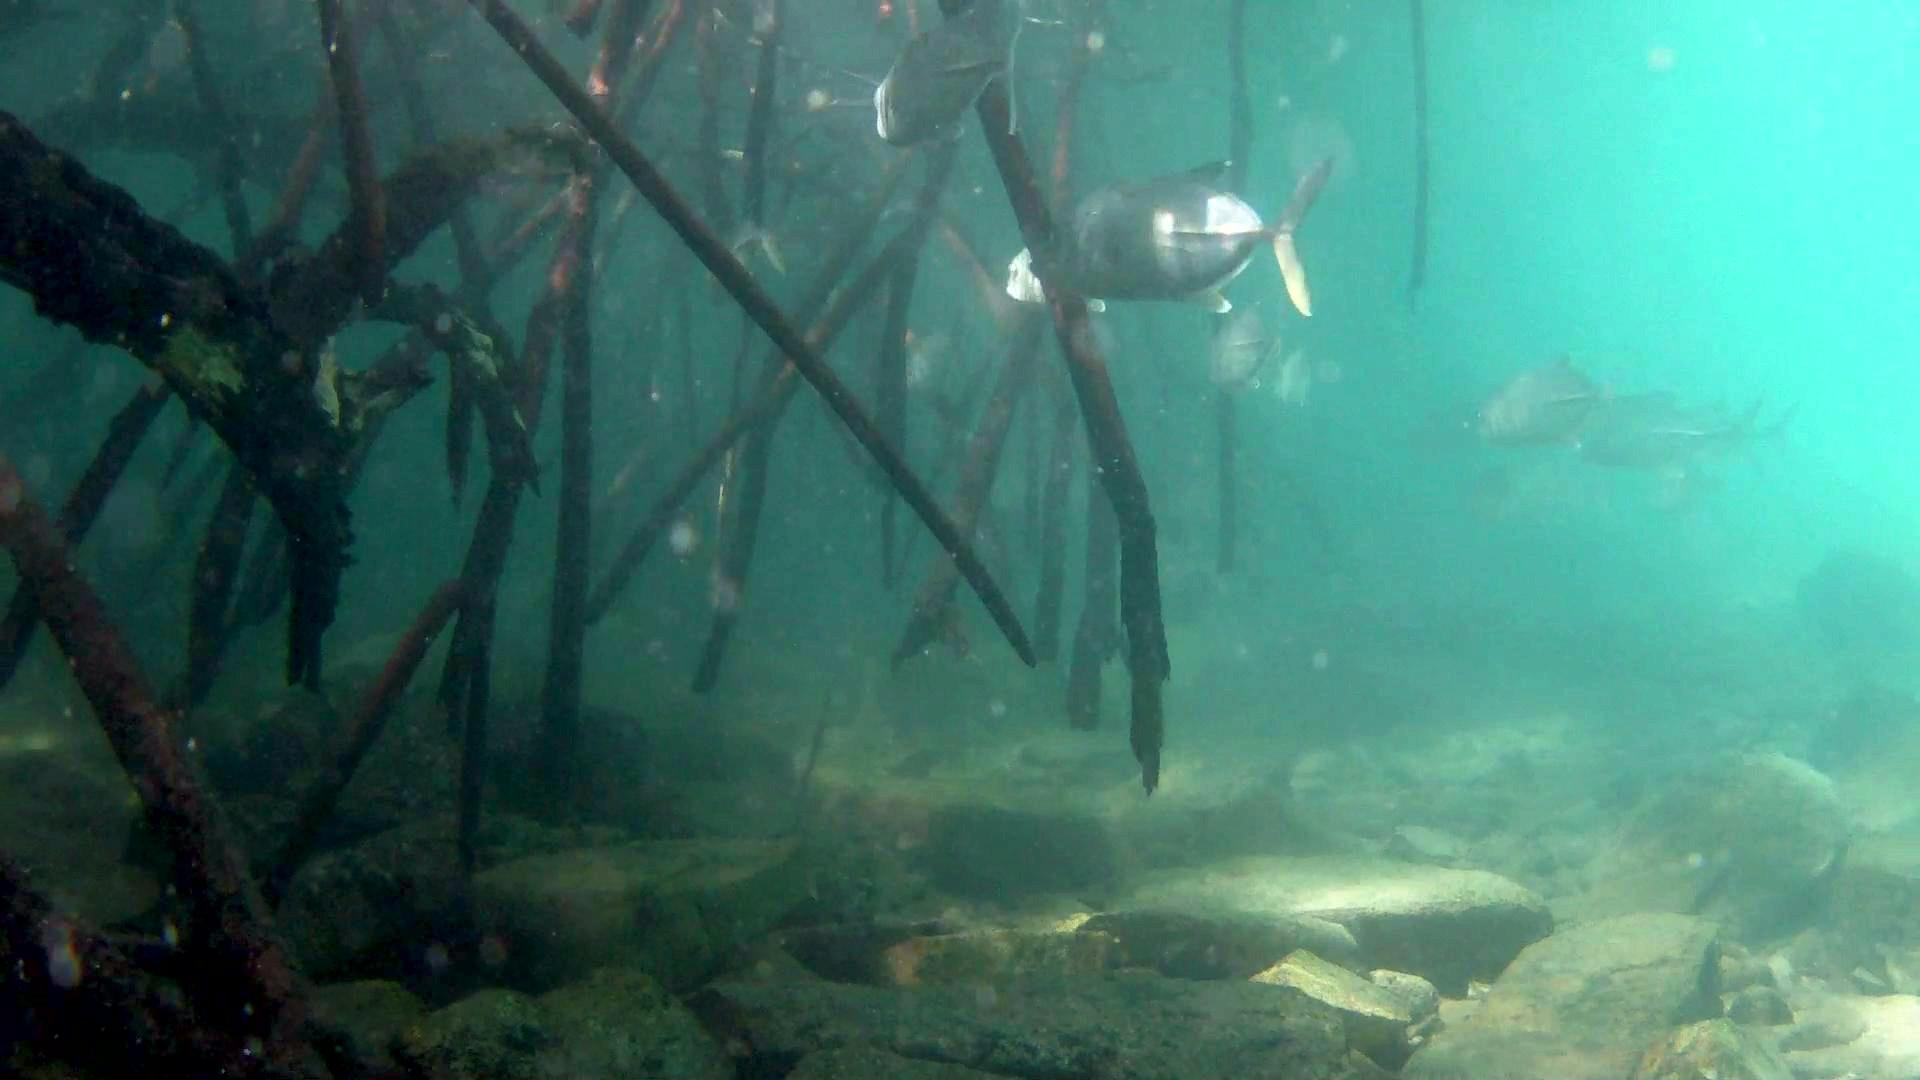caranx: (1033, 147, 1347, 322), (866, 0, 1030, 158)
